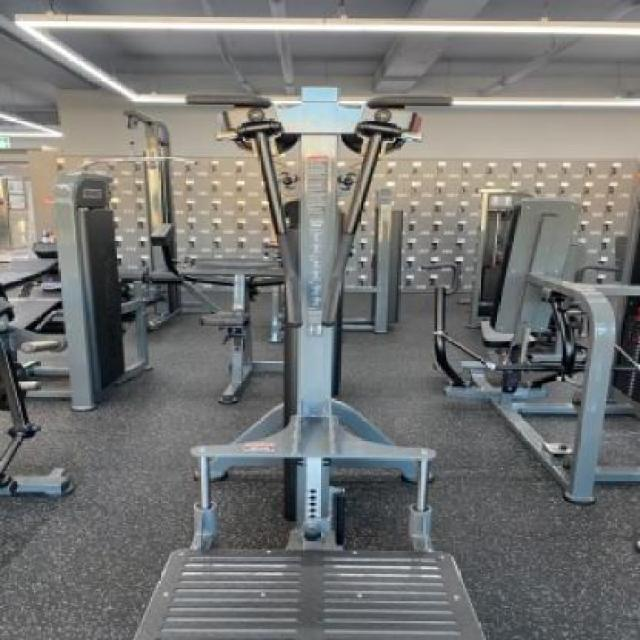lateral raises machine: (181, 84, 458, 640)
